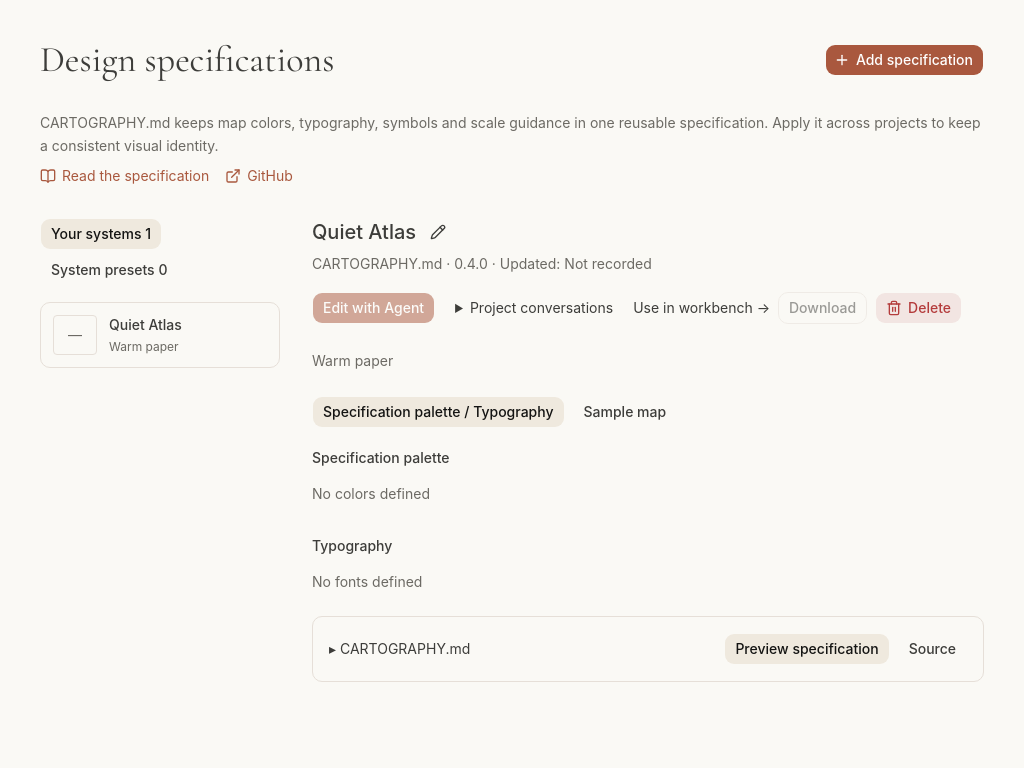
Test: confirms deletion, keeps the card on failure, and removes it after success
Step 1. Click the button with aria-label "Delete: Quiet Atlas" → (919, 308), box x1=875 y1=292 x2=962 y2=324
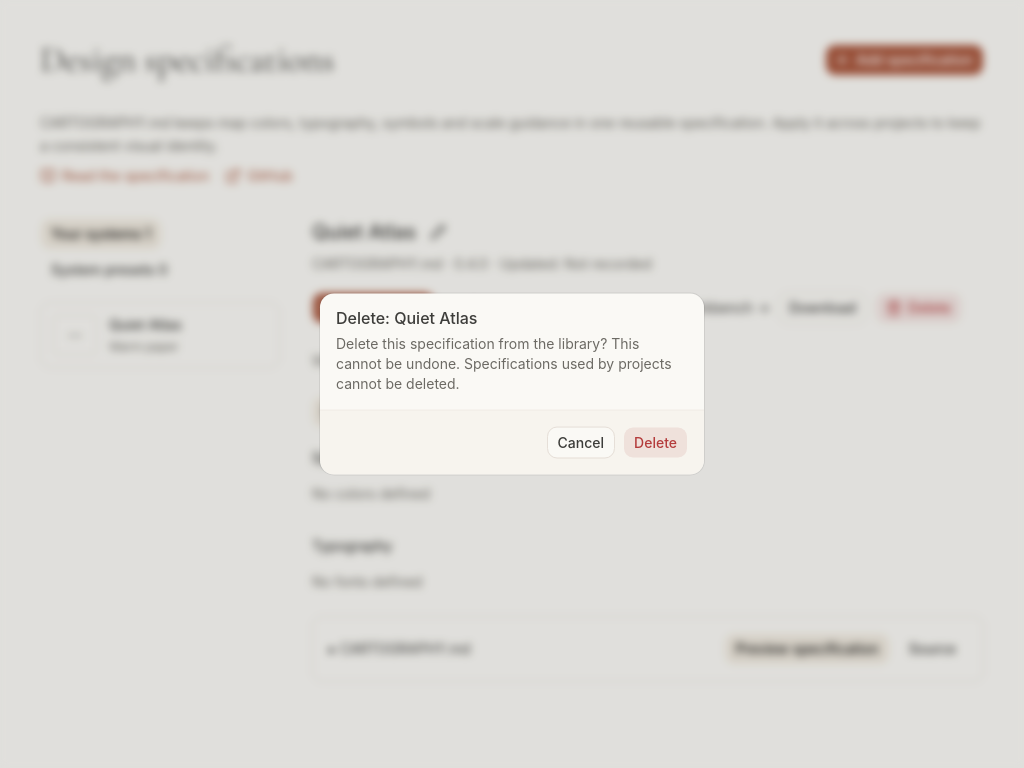
Expected: the dialog shows "Quiet Atlas", x1=394 y1=308 x2=478 y2=328
Step 2. Click the button "Cancel" → (581, 442), box x1=547 y1=426 x2=615 y2=458
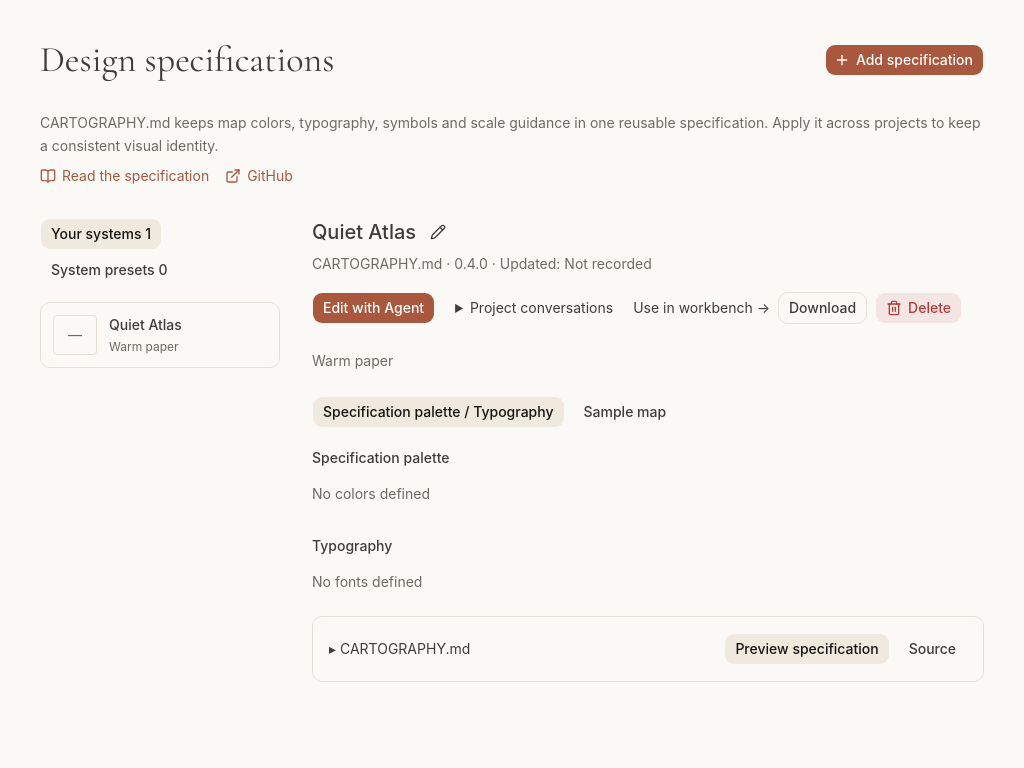
Step 3. Click the button with aria-label "Delete: Quiet Atlas" → (919, 308), box x1=875 y1=292 x2=962 y2=324
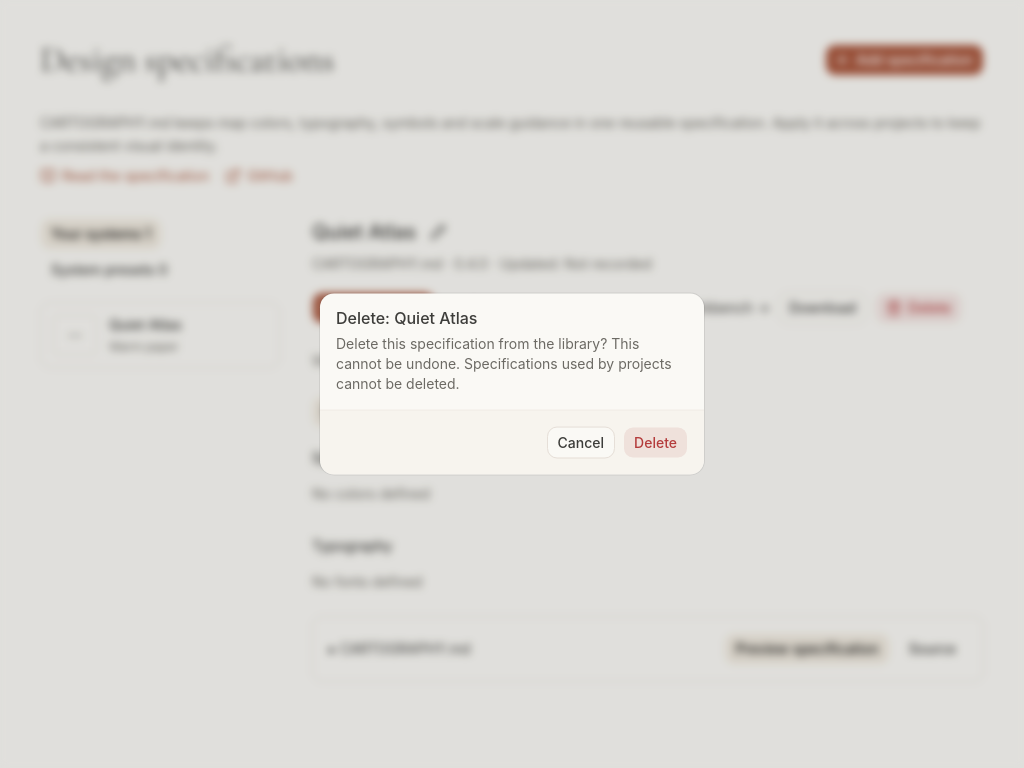
Step 4. Click the button "Delete" → (656, 442), box x1=623 y1=426 x2=688 y2=458
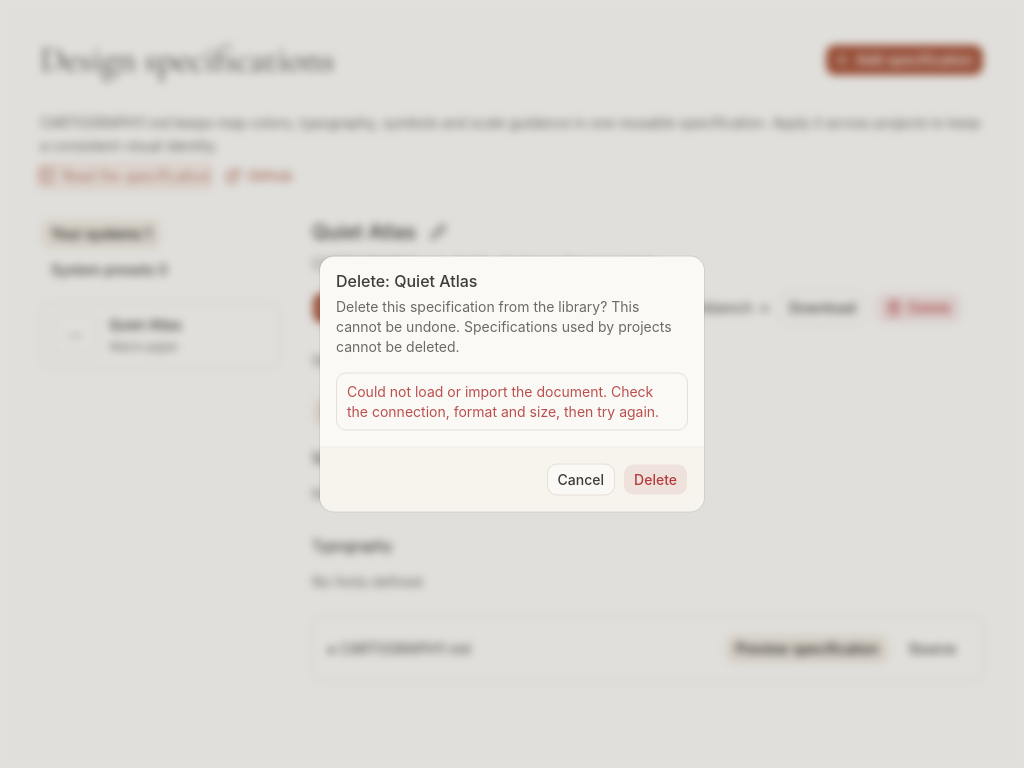
Expected: the button "Delete" is enabled
Expected: the message is shown, x1=336 y1=372 x2=688 y2=430
Step 5. Click the button "Delete" → (656, 480), box x1=623 y1=464 x2=688 y2=496
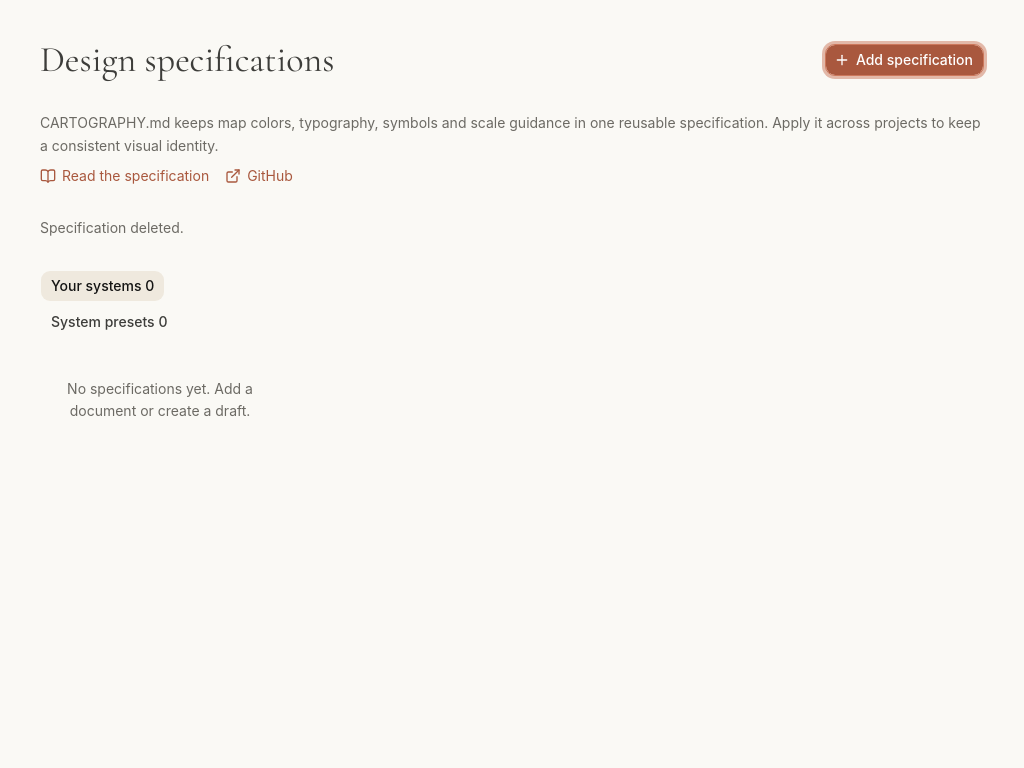
Expected: the message reads "Specification deleted.", x1=40 y1=218 x2=184 y2=236
